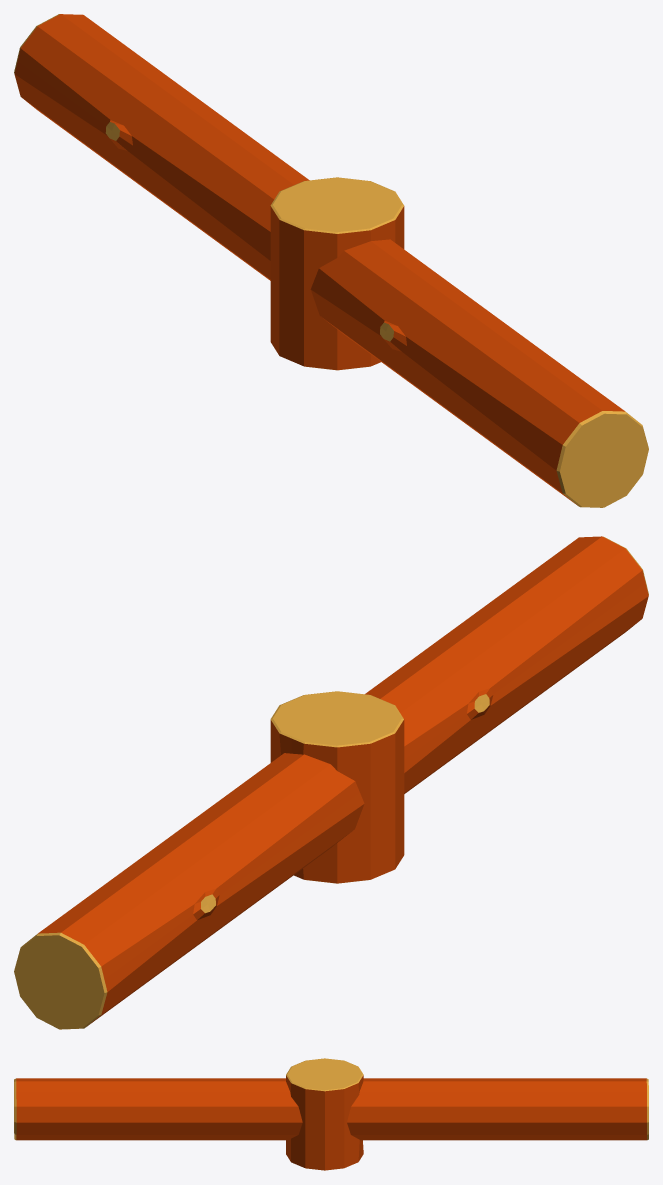
File: stammRotate.fbx
The picture shows the model from 3 angles, top to bottom: view 1: azimuth 30°, elevation 25°; view 2: azimuth 150°, elevation 25°; view 3: azimuth 270°, elevation 25°; orthographic projection. The views are drawn at different scales.
Visible parts, largest first — view 1: stammRotateMid; view 2: stammRotateMid; view 3: stammRotateMid.
Boxes of the visible parts, x1=… form: stammRotateMid: x1=14, y1=14, x2=648, y2=507; stammRotateMid: x1=14, y1=536, x2=648, y2=1029; stammRotateMid: x1=14, y1=1058, x2=648, y2=1170.
Bounding box in the file's own units: 182 × 208 × 1488.
